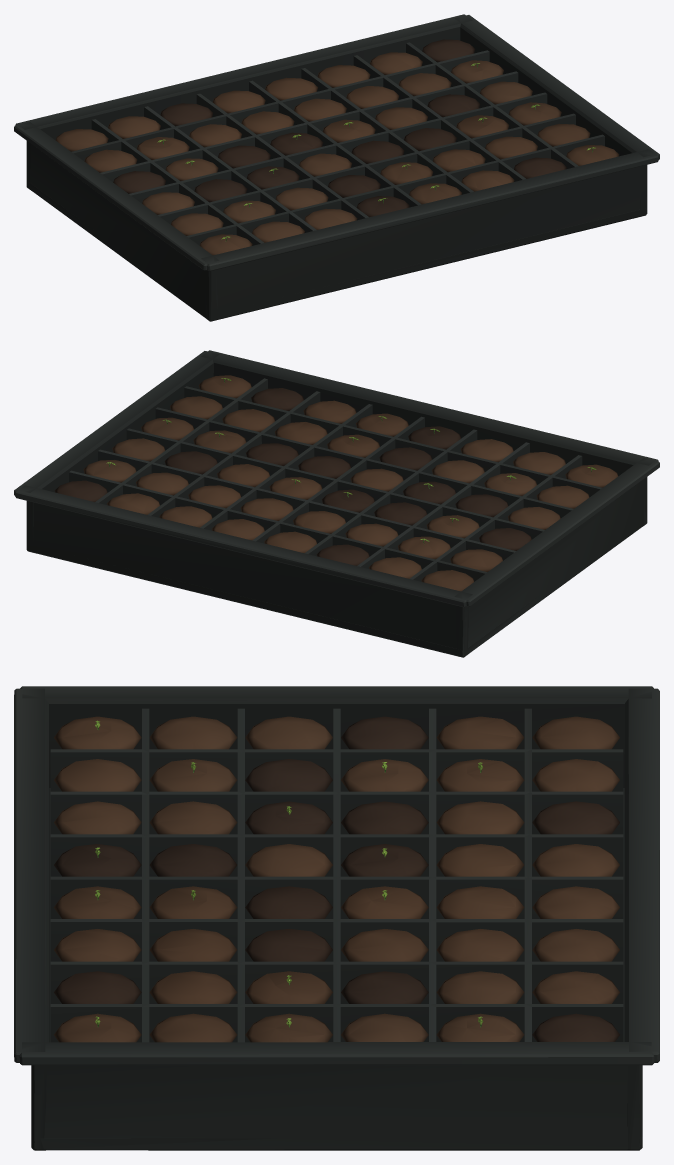
File: canopy_seed_tray_lod1.glb
The picture shows the model from 3 angles, top to bottom: view 1: azimuth 30°, elevation 25°; view 2: azimuth 150°, elevation 25°; view 3: azimuth 270°, elevation 25°; orthographic projection. The views are drawn at different scales.
Parts seen in each view (by area): view 1: canopy_seed_tray.001; view 2: canopy_seed_tray.001; view 3: canopy_seed_tray.001.
Part boxes in pixels (box(x1,y1,x2,y2)): canopy_seed_tray.001: box(14, 14, 659, 321); canopy_seed_tray.001: box(14, 350, 659, 657); canopy_seed_tray.001: box(14, 686, 659, 1150).
Size of the model in its own units: 22.88 by 3.01 by 16.88.
